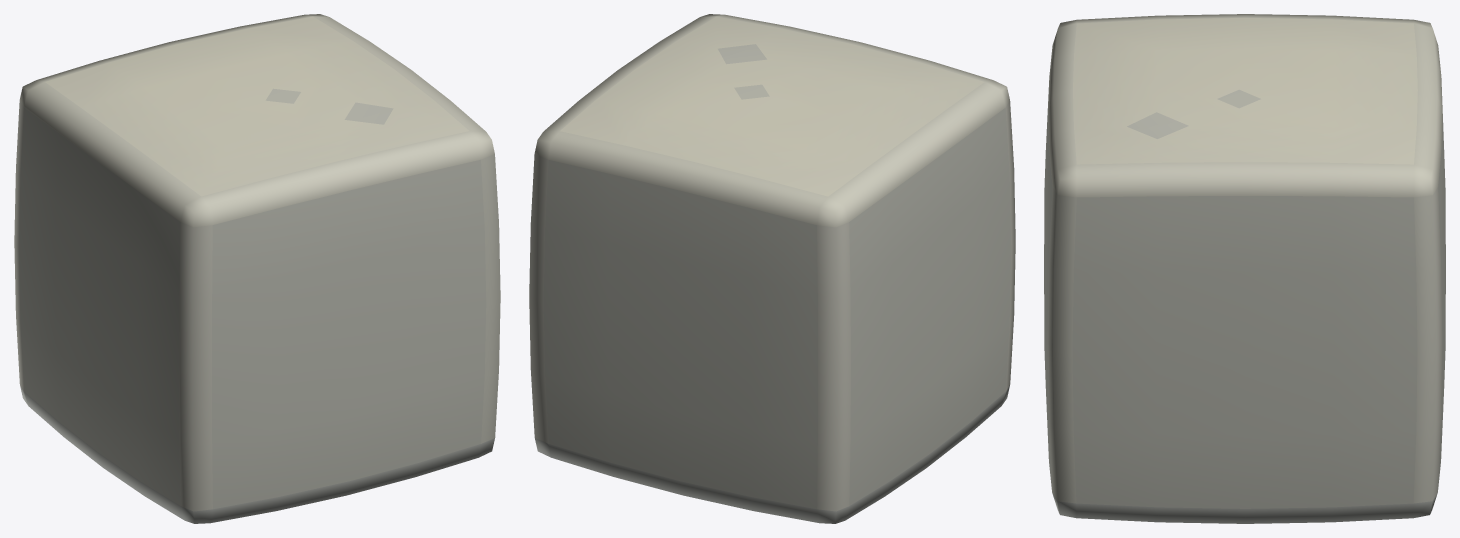
File: block_stone2_2_LOD_setup.fbx
3 views of the same model, side by side, from view 1: azimuth 30°, elevation 25°; view 2: azimuth 150°, elevation 25°; view 3: azimuth 270°, elevation 25° (orthographic). The views are drawn at different scales.
Visible parts, largest first — view 1: block_stone2_2_LOD0; view 2: block_stone2_2_LOD0; view 3: block_stone2_2_LOD0.
Boxes of the visible parts, x1=… form: block_stone2_2_LOD0: x1=14, y1=14, x2=500, y2=523; block_stone2_2_LOD0: x1=529, y1=14, x2=1015, y2=523; block_stone2_2_LOD0: x1=1044, y1=14, x2=1445, y2=523.
Size of what is drawn, in the model's own units: 109 by 109 by 109.
